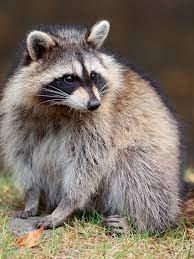raccoon: (0, 7, 194, 249)
